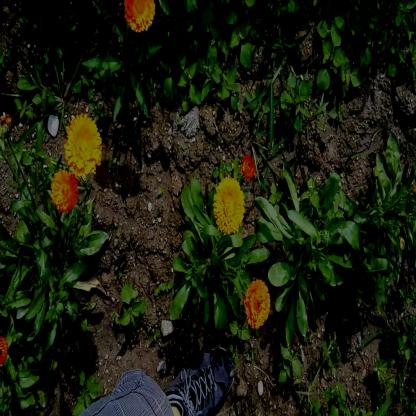marigold: (63, 112, 102, 178), (214, 179, 243, 234), (51, 168, 79, 214), (244, 282, 270, 326), (124, 0, 155, 33)
